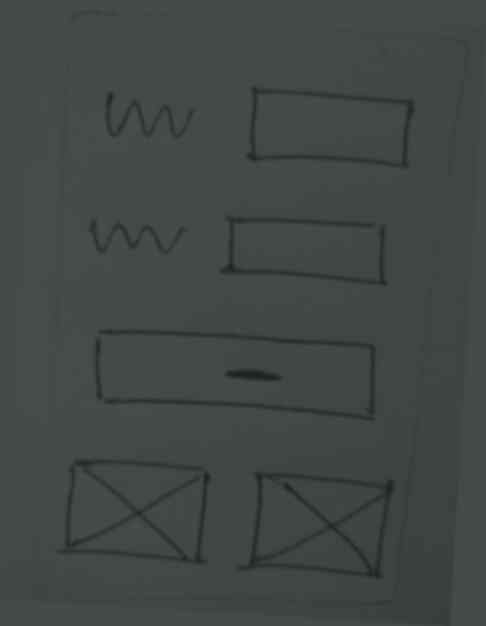button: (76, 315, 394, 435)
image: (54, 448, 218, 572), (238, 461, 396, 586)
text: (93, 82, 207, 151), (80, 205, 191, 271)
text_input: (237, 78, 421, 178), (213, 202, 400, 298)
